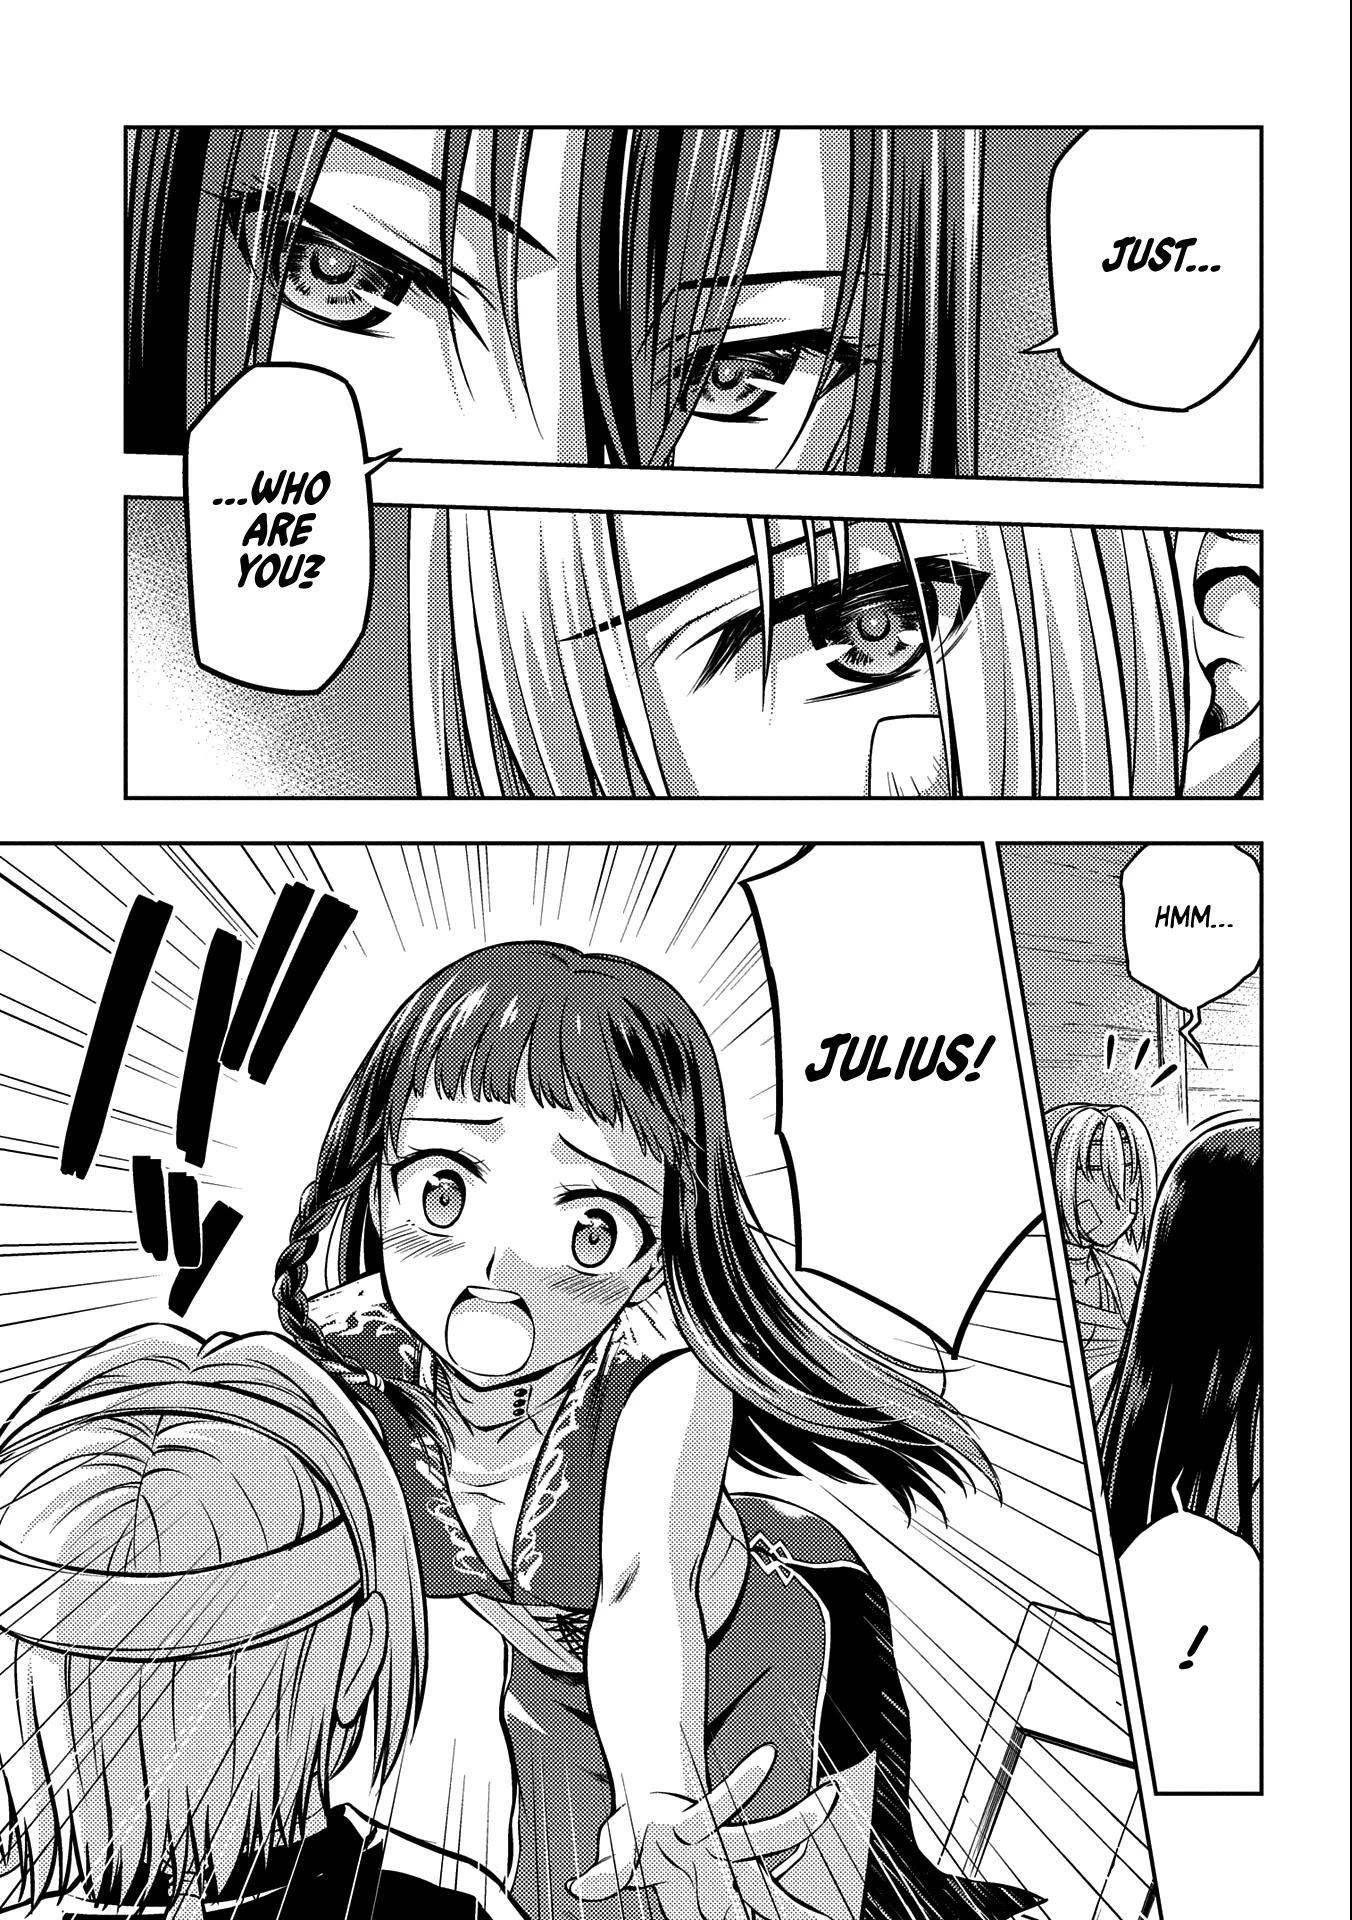Bubble: (733, 833, 1048, 1367), (1040, 116, 1272, 416), (179, 357, 379, 697), (1111, 1507, 1272, 1801), (1113, 833, 1272, 1013)
